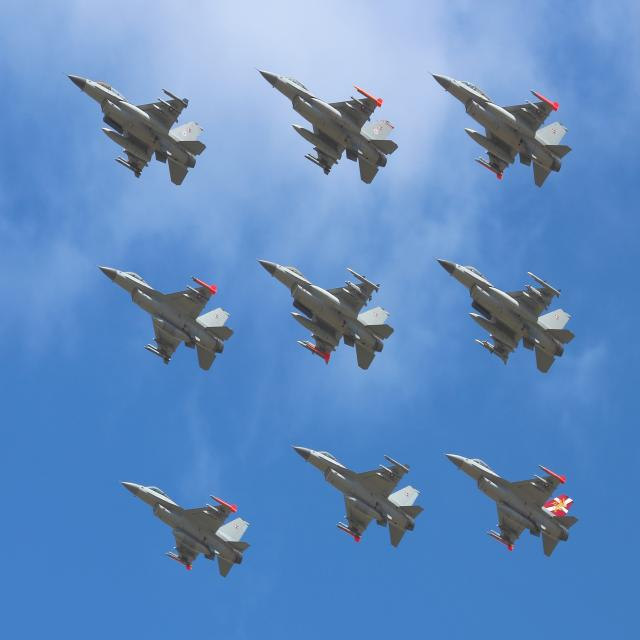MIL_Plane: (431, 255, 576, 374), (427, 70, 573, 188), (254, 66, 399, 184), (62, 71, 207, 186), (253, 256, 394, 371), (94, 264, 235, 370), (442, 451, 580, 558), (288, 443, 423, 548), (117, 479, 250, 578)
